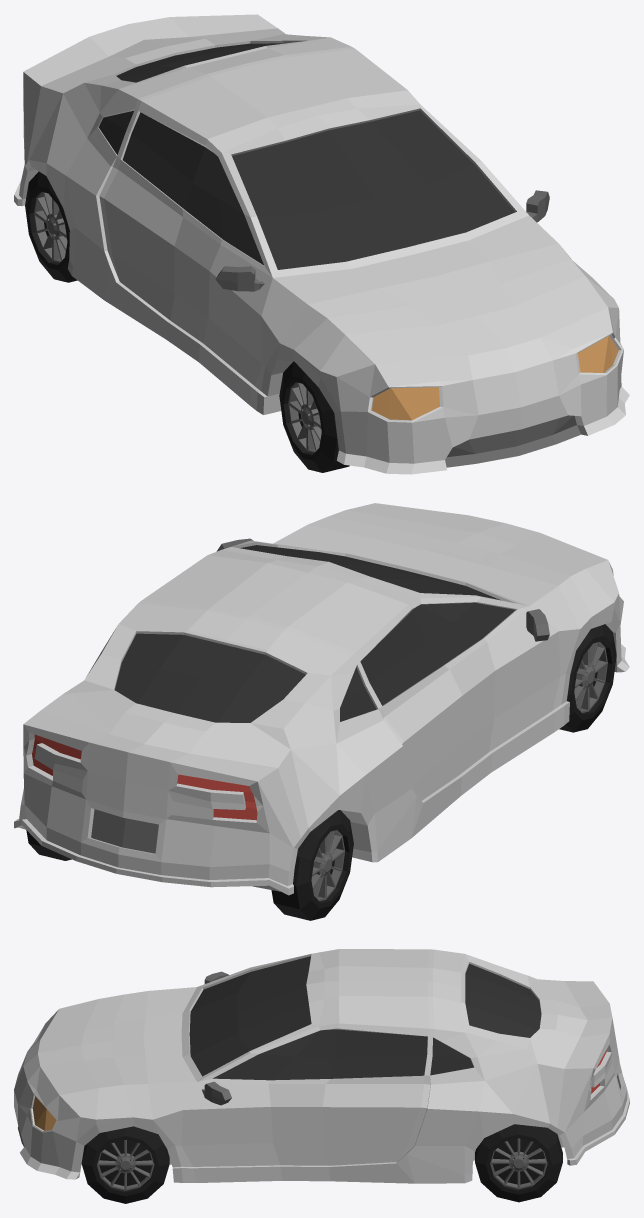
The model's file is SportsCar2.glb.
The picture shows the model from 3 angles, top to bottom: view 1: azimuth 30°, elevation 25°; view 2: azimuth 150°, elevation 25°; view 3: azimuth 270°, elevation 25°; orthographic projection. The views are drawn at different scales.
Visible parts, largest first — view 1: SportsCar2.obj; view 2: SportsCar2.obj; view 3: SportsCar2.obj.
Boxes of the visible parts, <box> form: SportsCar2.obj: <box>14,14,629,474</box>; SportsCar2.obj: <box>14,503,629,920</box>; SportsCar2.obj: <box>14,949,629,1203</box>.
Size of the model in its own units: 1.87 by 1.2 by 3.93.
